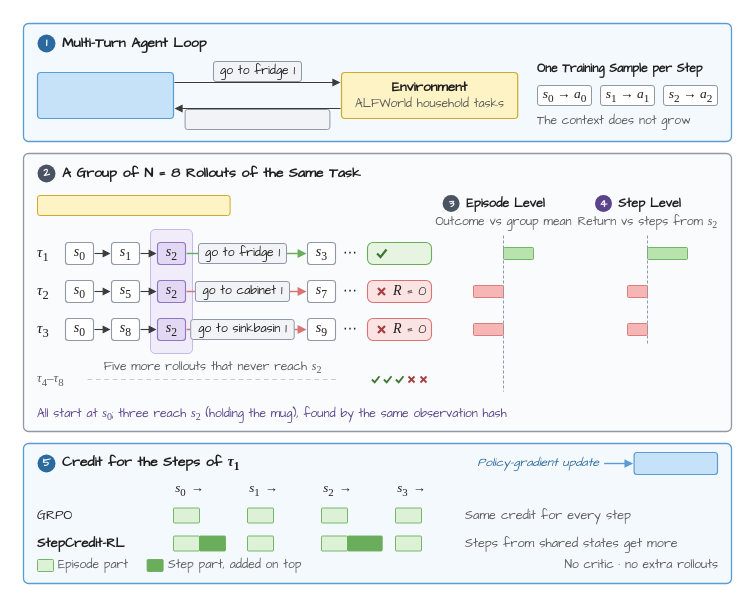
Image size: 754x606. Some labels were removed from this diagram. The centre of each missing label's shape, as x and y in pixels:
"LLM Agent" goes at (x=675, y=463).
"LLM Agent Qwen3-4B" goes at (x=105, y=95).
"R = 1" goes at (x=399, y=253).
"Task: “put a cool mug in cabinet”" goes at (x=133, y=205).
"“You arrive at fridge 1.”" goes at (x=257, y=119).
